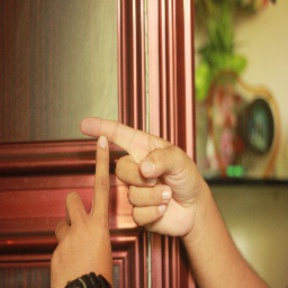T: (53, 107, 169, 244)
